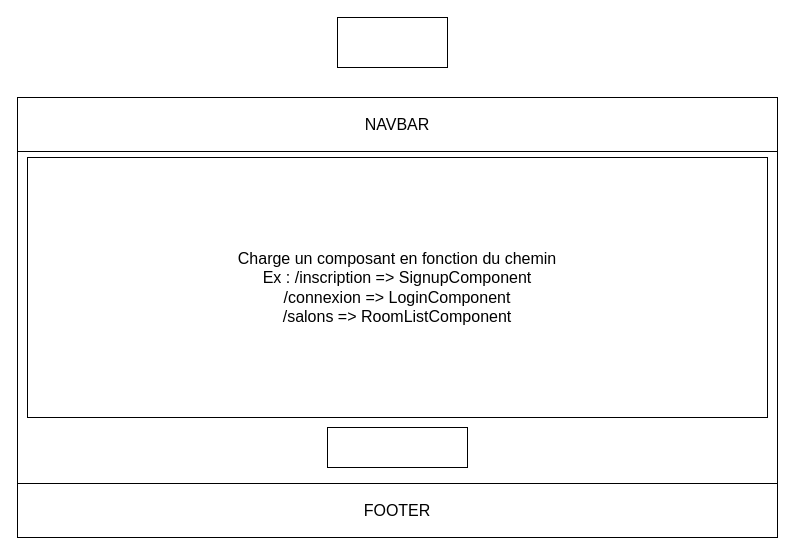
Some shapes in this 795 by 555 pixel diagram are drawn without their labels. The centre of each missing label's shape, as x and y in pixels:
"APP" goes at point 392,42.
"NOTIFICATION" goes at point 397,447.
